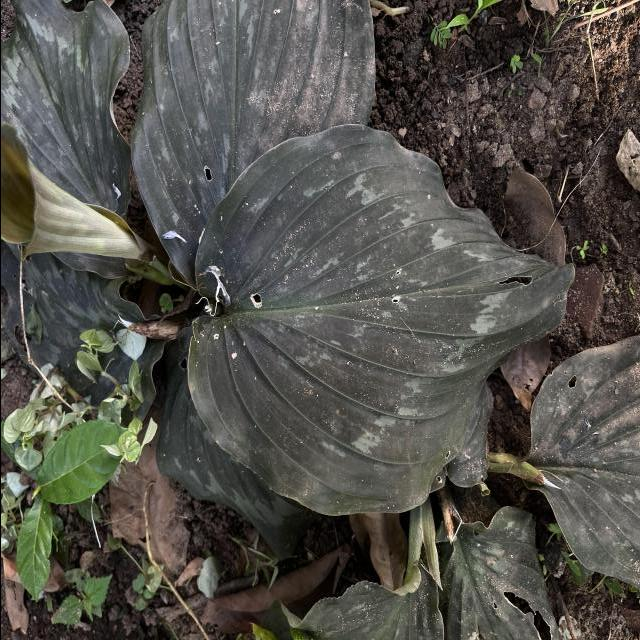Kaempferia galanga linn: (183, 120, 577, 520)
